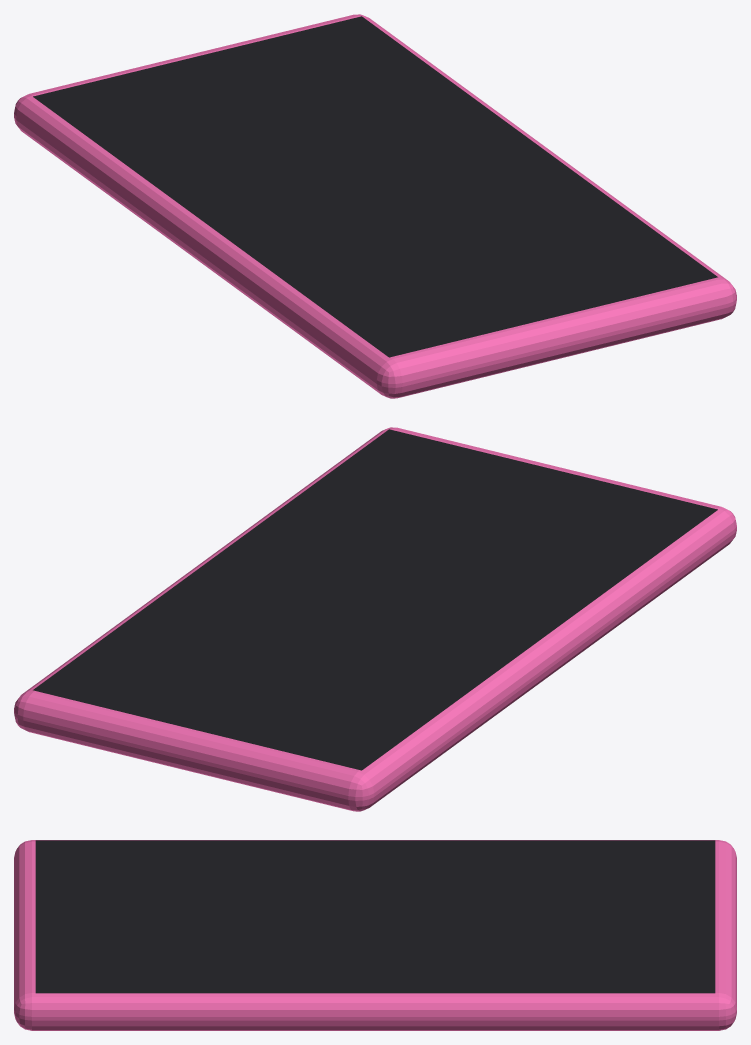
Rendered from realme-gen-2021-flagship-2021.glb.
3 renders of one model, top to bottom at view 1: azimuth 30°, elevation 25°; view 2: azimuth 150°, elevation 25°; view 3: azimuth 270°, elevation 25°, orthographic. The views are drawn at different scales.
Visible parts, largest first — view 1: Phone_Screen, Phone_Body; view 2: Phone_Screen, Phone_Body; view 3: Phone_Screen, Phone_Body.
Boxes of the visible parts, x1,y1,x2,y2 form: Phone_Screen: (33, 16, 717, 357); Phone_Body: (14, 14, 736, 398); Phone_Screen: (33, 429, 717, 770); Phone_Body: (14, 427, 736, 811); Phone_Screen: (35, 840, 715, 993); Phone_Body: (14, 840, 736, 1030).
Bounding box in the file's own units: 0.0785 × 0.0081 × 0.1441.
